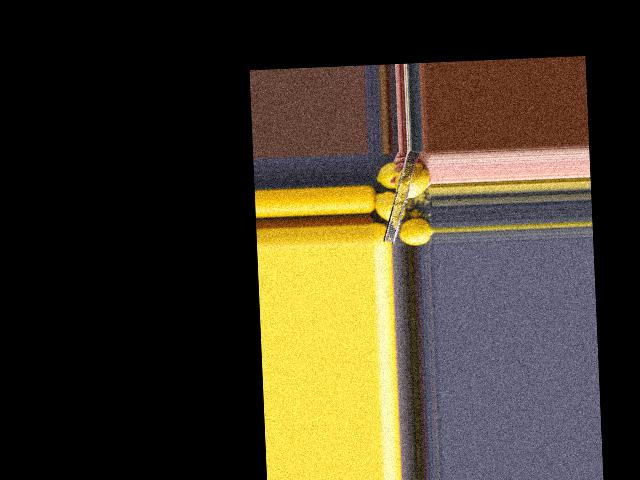lemon: (399, 212, 433, 245)
